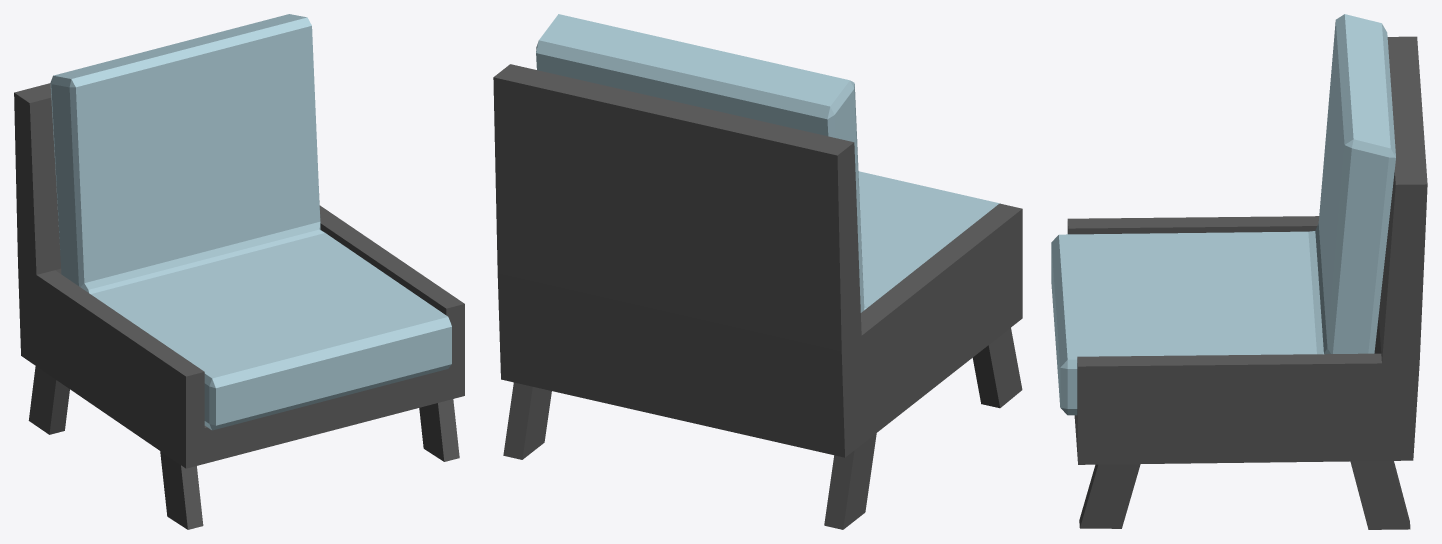
File: Armchair_4.fbx
The picture shows the model from 3 angles, left to right: view 1: azimuth 30°, elevation 25°; view 2: azimuth 150°, elevation 25°; view 3: azimuth 270°, elevation 25°; orthographic projection. The views are drawn at different scales.
Visible parts, largest first — view 1: Armchair_4; view 2: Armchair_4; view 3: Armchair_4.
Boxes of the visible parts, bbox=[...] form: Armchair_4: bbox=[14, 14, 464, 529]; Armchair_4: bbox=[493, 14, 1022, 529]; Armchair_4: bbox=[1051, 14, 1427, 529].
Bounding box in the file's own units: 118 × 124 × 138.
